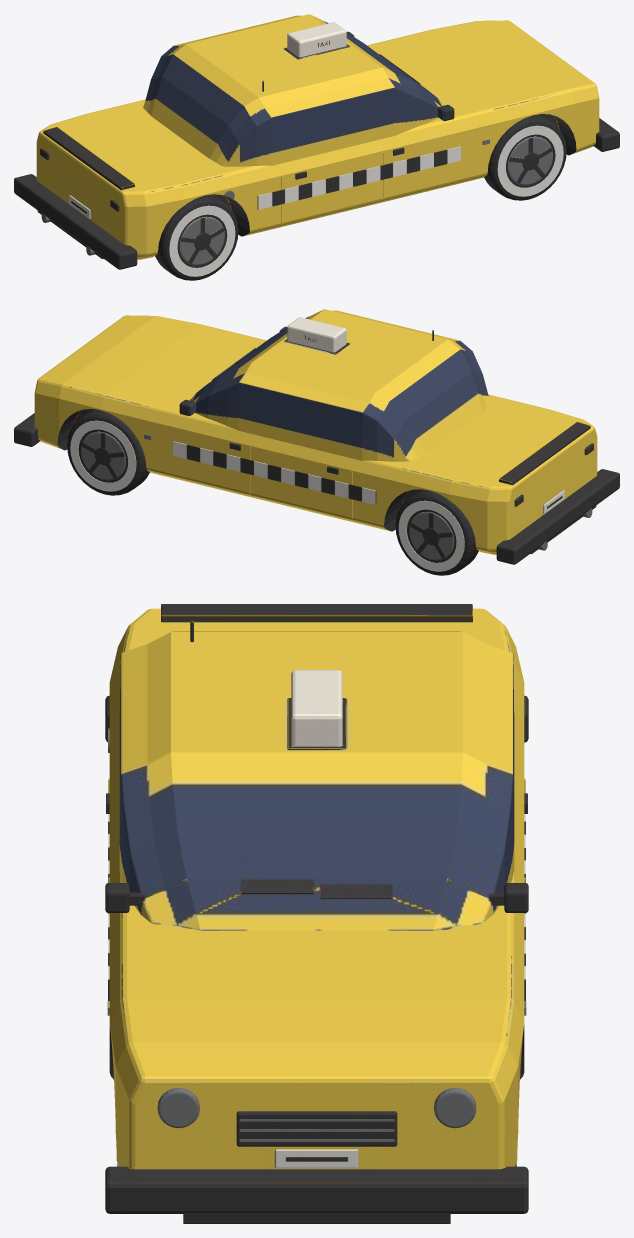
Rendered from Modle_Vehicle_SpiderTaxi.fbx.
3 views of the same model, one above another, from view 1: azimuth 30°, elevation 25°; view 2: azimuth 150°, elevation 25°; view 3: azimuth 270°, elevation 25° (orthographic). The views are drawn at different scales.
Visible parts, largest first — view 1: GEO-TaxiSpider; view 2: GEO-TaxiSpider; view 3: GEO-TaxiSpider.
Part boxes in pixels (x1,y1,x2,y2): GEO-TaxiSpider: (14, 14, 619, 280); GEO-TaxiSpider: (14, 309, 619, 575); GEO-TaxiSpider: (105, 604, 528, 1223).
Bounding box in the file's own units: 5.2 × 1.72 × 1.9.
Materials: 7 (7 with a texture image).
